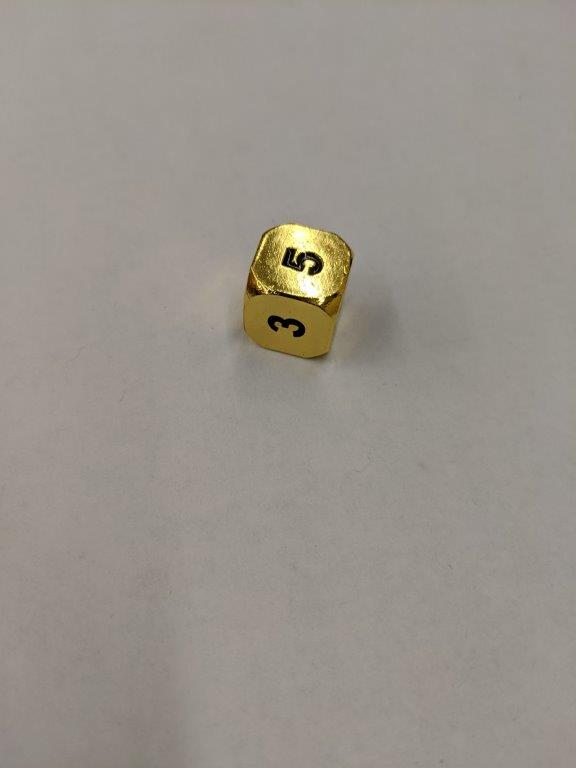d6-5: (242, 224, 355, 357)
